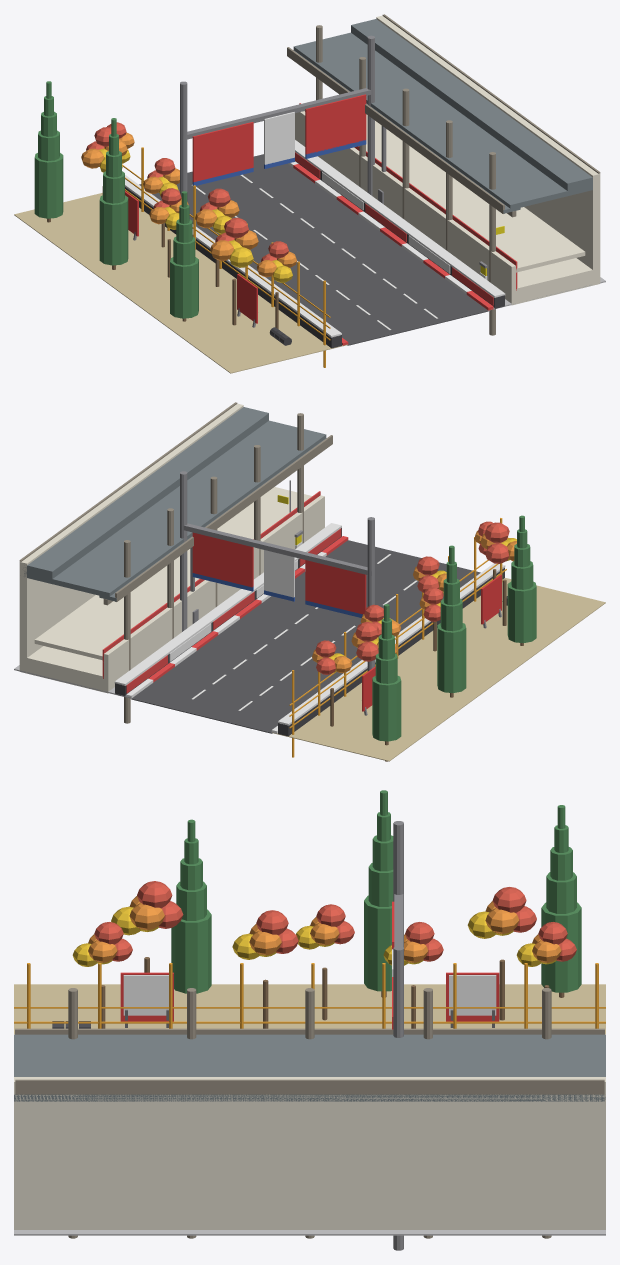
Rendered from env3-2.glb.
3 views of the same model, one above another, from view 1: azimuth 30°, elevation 25°; view 2: azimuth 150°, elevation 25°; view 3: azimuth 270°, elevation 25° (orthographic). The views are drawn at different scales.
Parts seen in each view (by area): view 1: env3-2.001; view 2: env3-2.001; view 3: env3-2.001.
Boxes of the visible parts, x1,y1,x2,y2 form: env3-2.001: [14, 14, 605, 373]; env3-2.001: [14, 402, 605, 761]; env3-2.001: [14, 790, 605, 1250].
Size of the model in its own units: 20 by 11.2 by 20.
